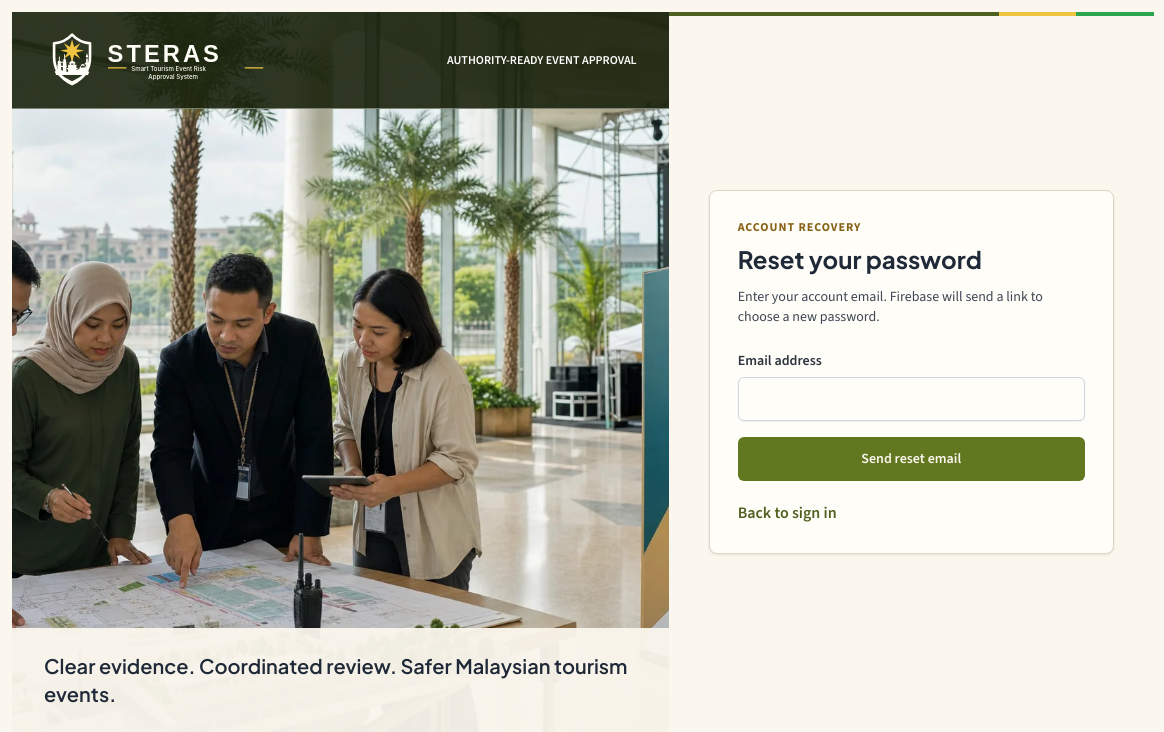
Test case: Password recovery › preserves email and permits retry after network failure
Type "viewer@example.com" into the field labelled "Email address". click: (911,399)
box: top-left (738, 377), bottom-right (1085, 421)
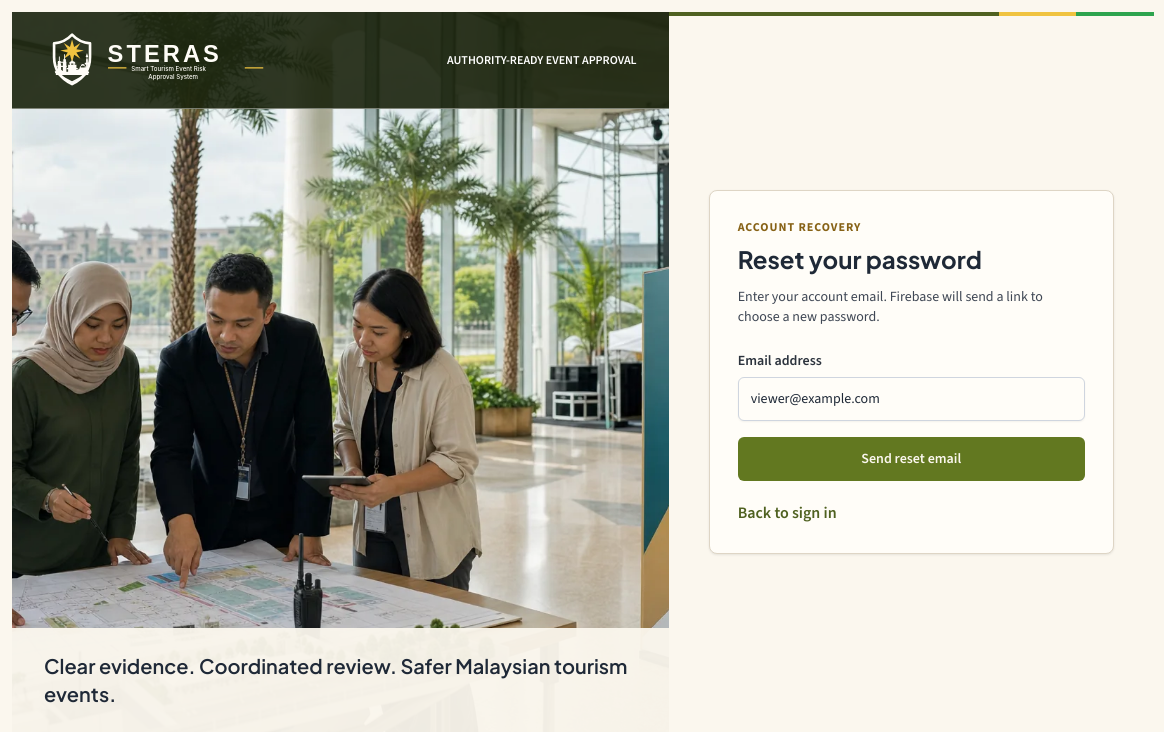
Click the button "Send reset email". click: (911,459)
box: top-left (738, 437), bottom-right (1085, 481)
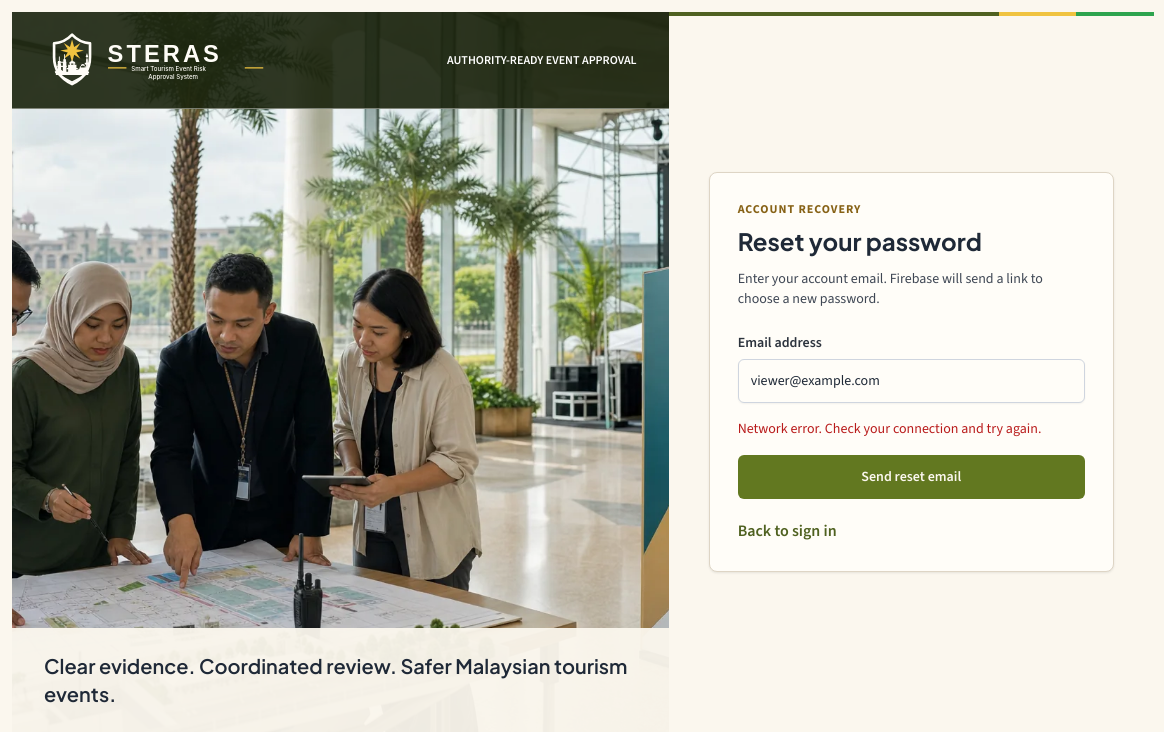
Expected: the button "Send reset email" is enabled, top-left (738, 455), bottom-right (1085, 499)
Now the message shows "Network error", box top-left (738, 419), bottom-right (1041, 438)
